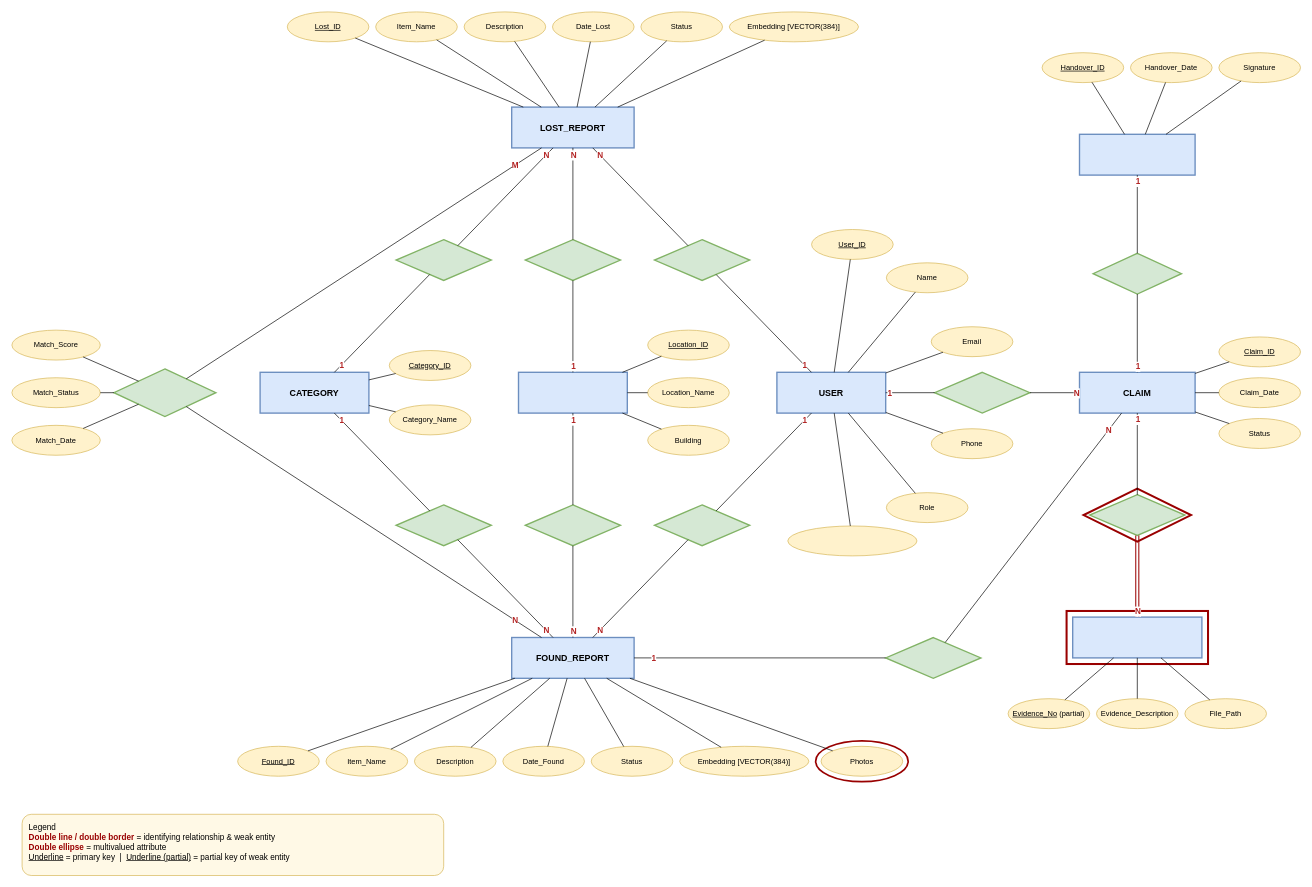
This 1312x887 diagram has some shape labels left out. Here are the shapes that lost their labels. From the top down, the centre of each, then its label:
At (x=1136, y=154): "HANDOVER".
At (x=443, y=260): "CATEGORIZES".
At (x=572, y=260): "LOCATED_AT_L".
At (x=701, y=260): "REPORTS_LOST".
At (x=1137, y=273): "RESULTS_IN".
At (x=164, y=392): "MATCHES".
At (x=572, y=392): "LOCATION".
At (x=982, y=392): "FILES".
At (x=443, y=525): "CATEGORIZES_F".
At (x=572, y=525): "LOCATED_AT_F".
At (x=701, y=525): "REPORTS_FOUND".
At (x=1137, y=515): "HAS_EVIDENCE".
At (x=852, y=540): "Password_Hash".
At (x=933, y=657): "CLAIMS_ITEM".
At (x=1137, y=637): "CLAIM_EVIDENCE".
